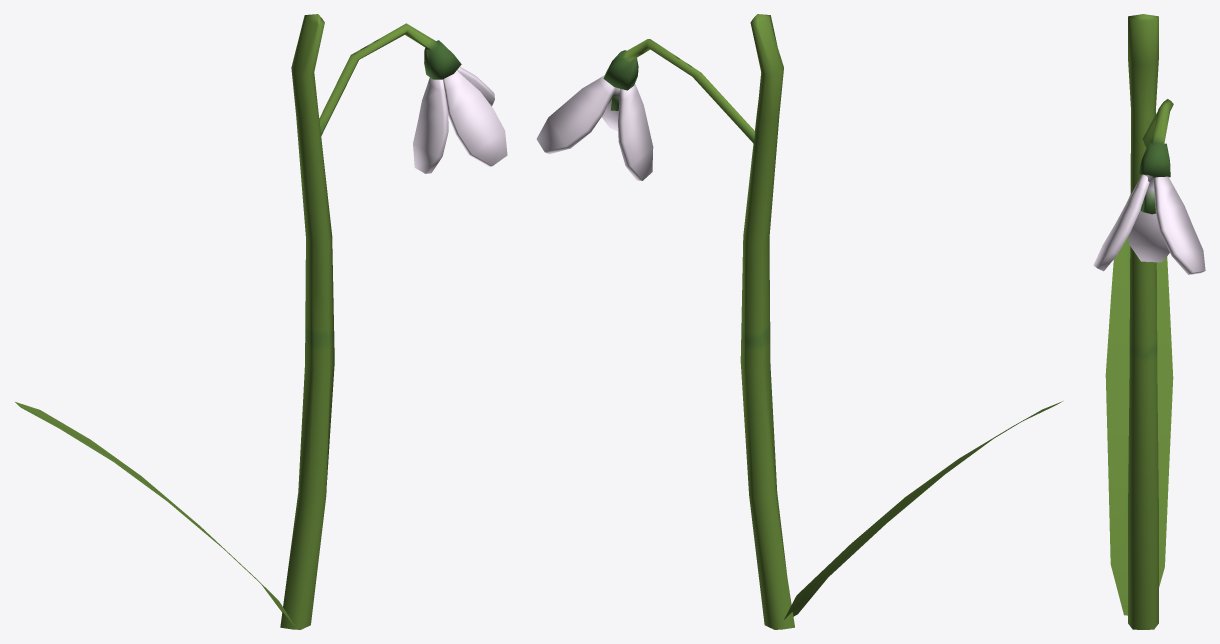
Rendered from Snowdrop.fbx.
3 renders of one model, left to right at view 1: azimuth 30°, elevation 25°; view 2: azimuth 150°, elevation 25°; view 3: azimuth 270°, elevation 25°, orthographic. The views are drawn at different scales.
Visible parts, largest first — view 1: Cube.008; view 2: Cube.008; view 3: Cube.008.
Boxes of the visible parts, x1,y1,x2,y2 form: Cube.008: (15,14,507,629); Cube.008: (536,14,1062,629); Cube.008: (1093,14,1205,629).
Bounding box in the file's own units: 0.3709 × 0.4294 × 0.0702.
